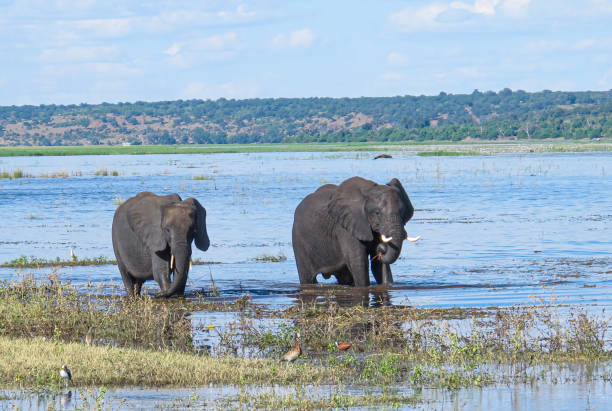africanelephant: (316, 169, 419, 269)
